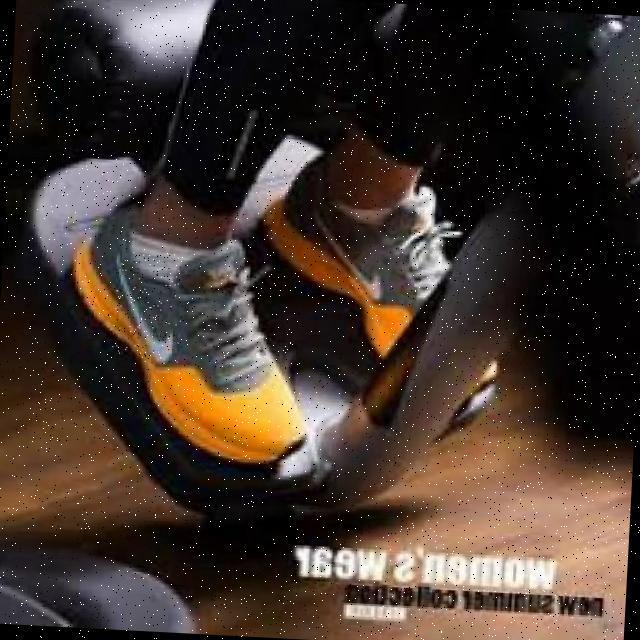Nike: (111, 251, 185, 365)
